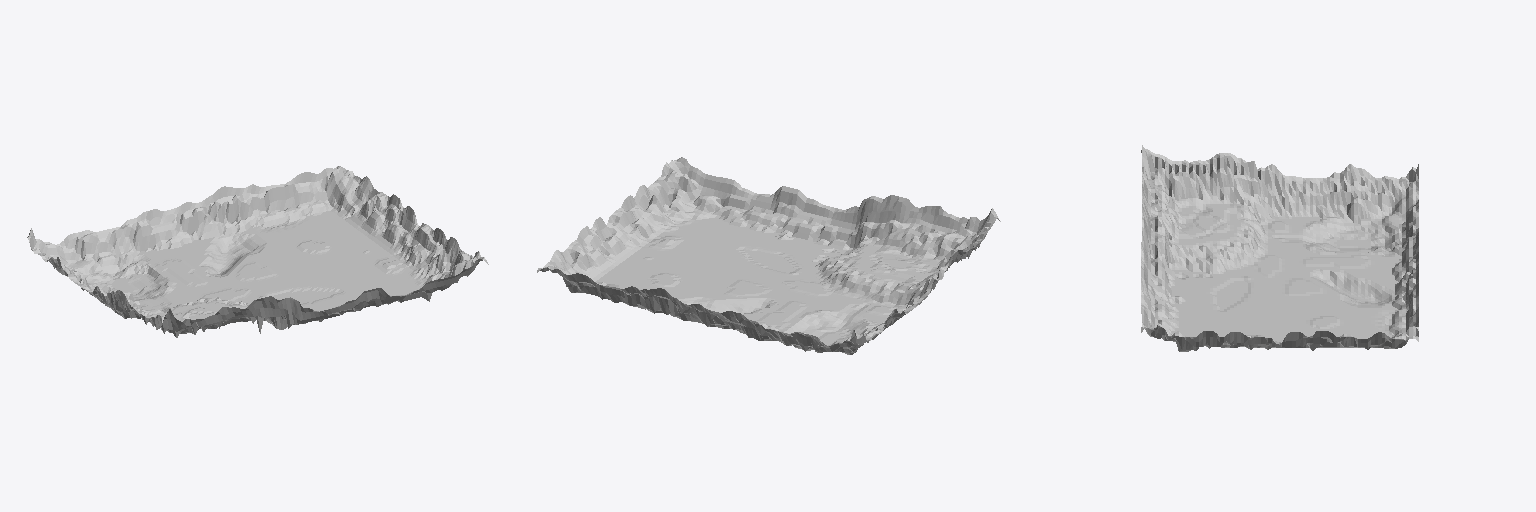
The model's file is landscape2.0.obj.
3 renders of one model, left to right at view 1: azimuth 30°, elevation 25°; view 2: azimuth 150°, elevation 25°; view 3: azimuth 270°, elevation 25°, orthographic.
Visible parts, largest first — view 1: Plane; view 2: Plane; view 3: Plane.
Boxes of the visible parts, <box> form: Plane: <box>27,166,488,337</box>; Plane: <box>537,157,1000,354</box>; Plane: <box>1141,145,1418,351</box>.
Size of the model in its own units: 460 by 96.99 by 339.